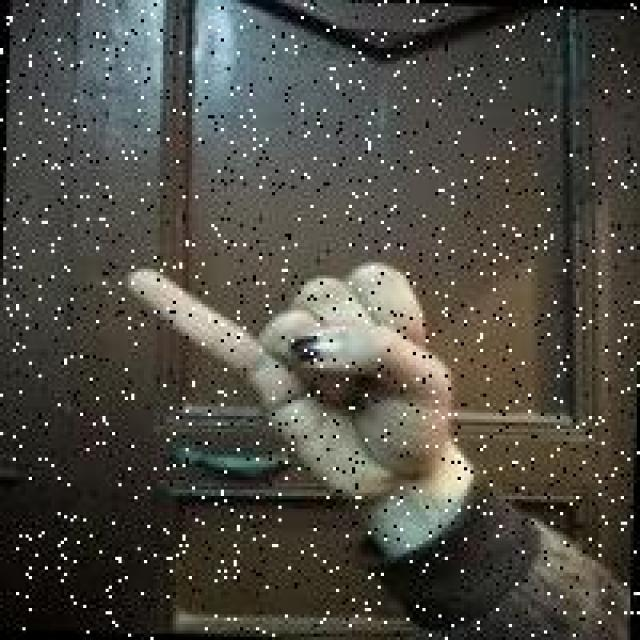J: (116, 250, 487, 499)
